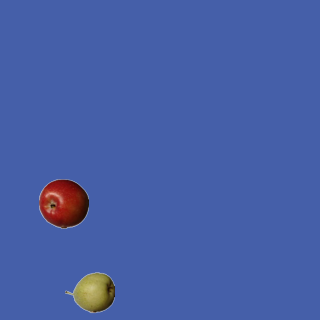Apple Braeburn: (38, 178, 88, 228)
Pear: (64, 267, 114, 317)
